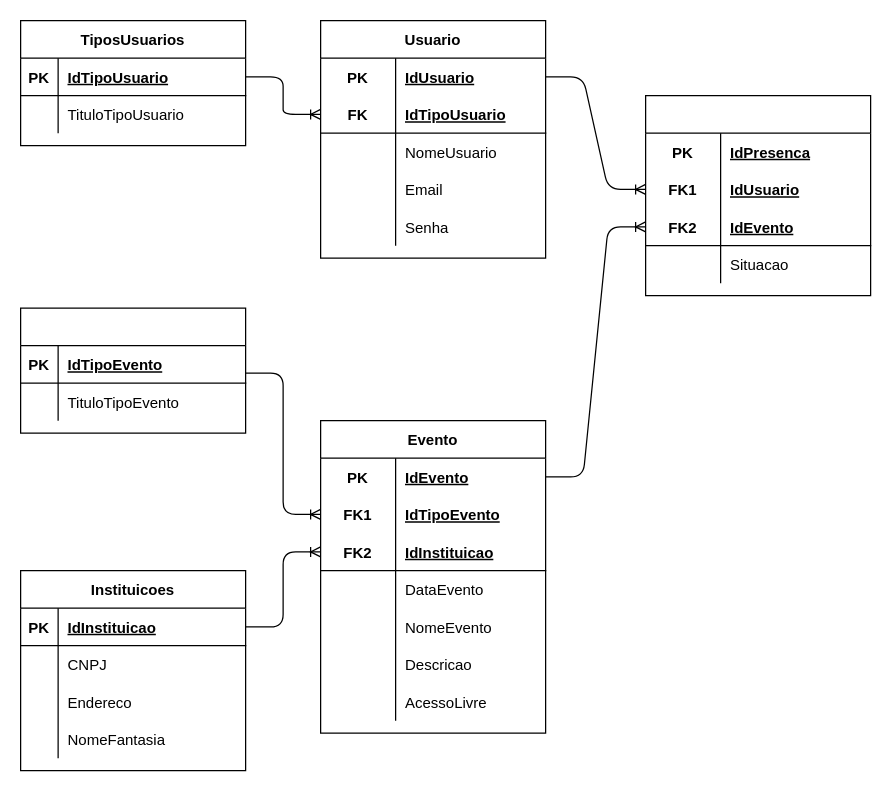
This 891x791 diagram has some shape labels left out. Here are the shapes that lost their labels. From the top down, the box of each, then its label:
(644, 94, 871, 296): Presencas
(19, 307, 246, 433): TiposEventos
